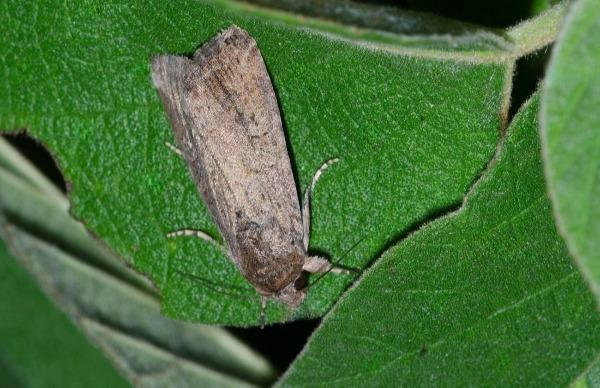army worm adult: (137, 26, 375, 331)
